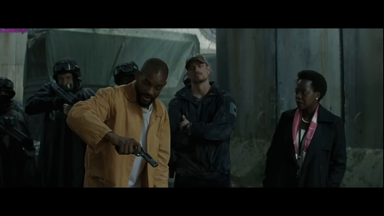firearm: (2, 112, 35, 154), (114, 143, 160, 169), (47, 79, 80, 106)
